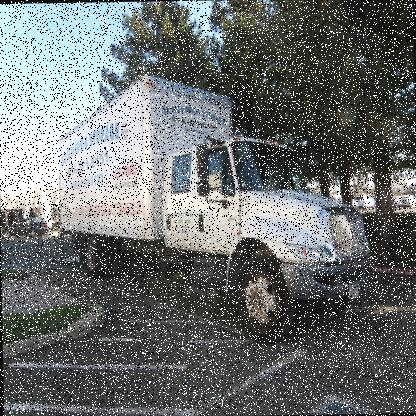Car: (0, 216, 48, 236)
